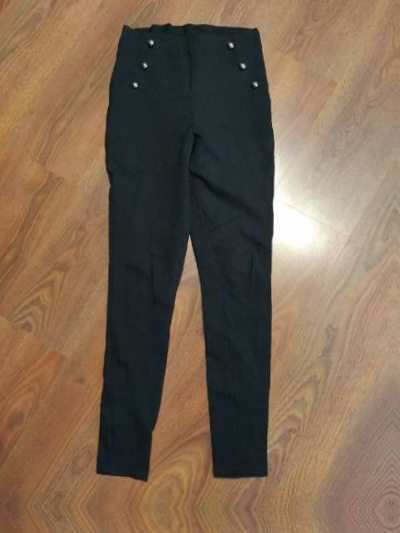Pants: (69, 20, 320, 493), (63, 525, 314, 533)
